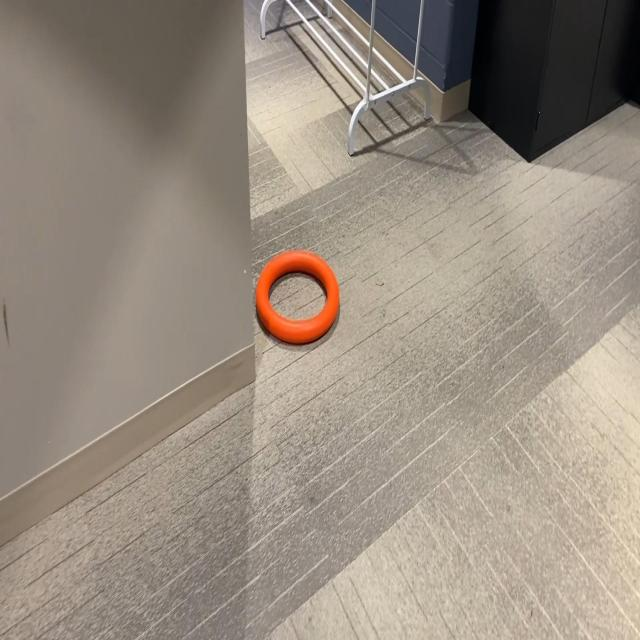note: (255, 248, 340, 348)
